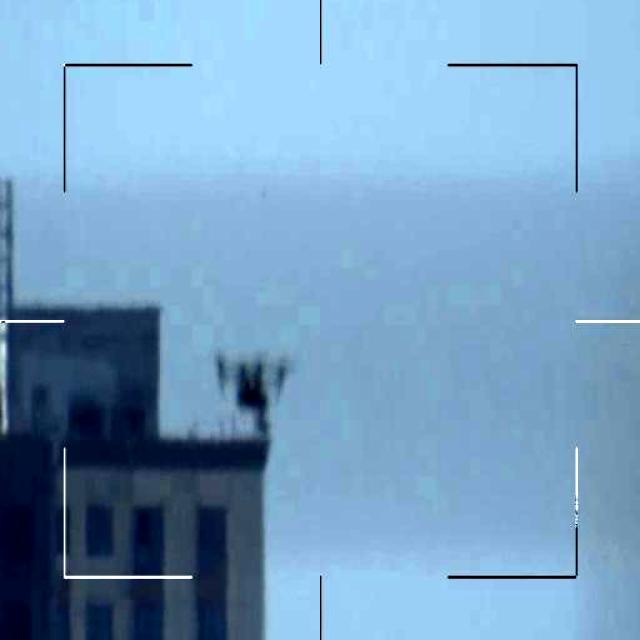bird: (205, 354, 281, 441)
